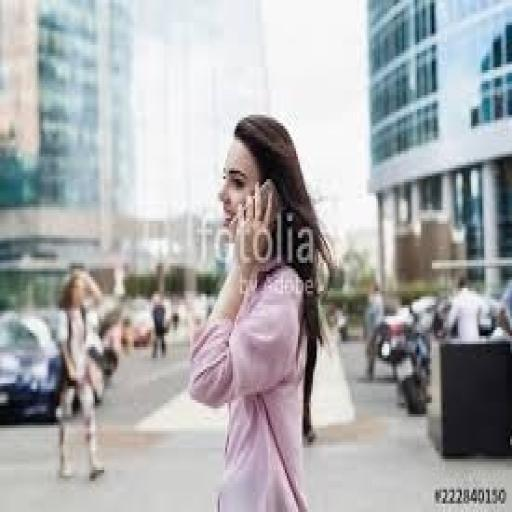calling: (184, 112, 337, 509), (50, 266, 110, 484)
